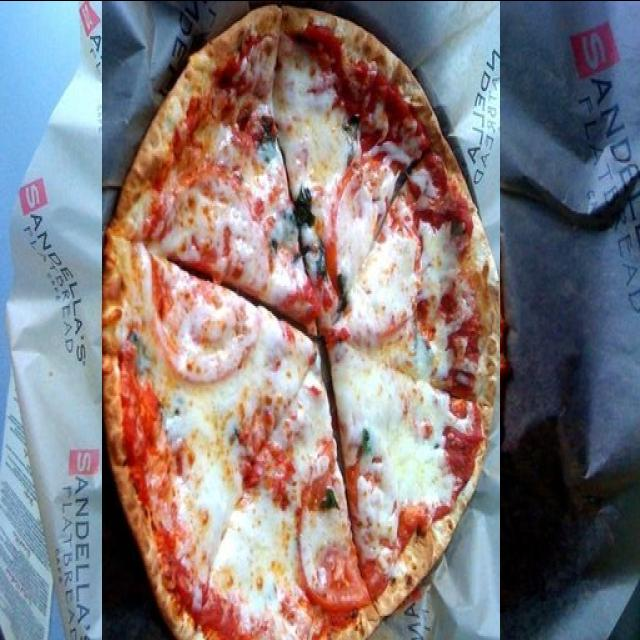pizza: (102, 0, 500, 640)
